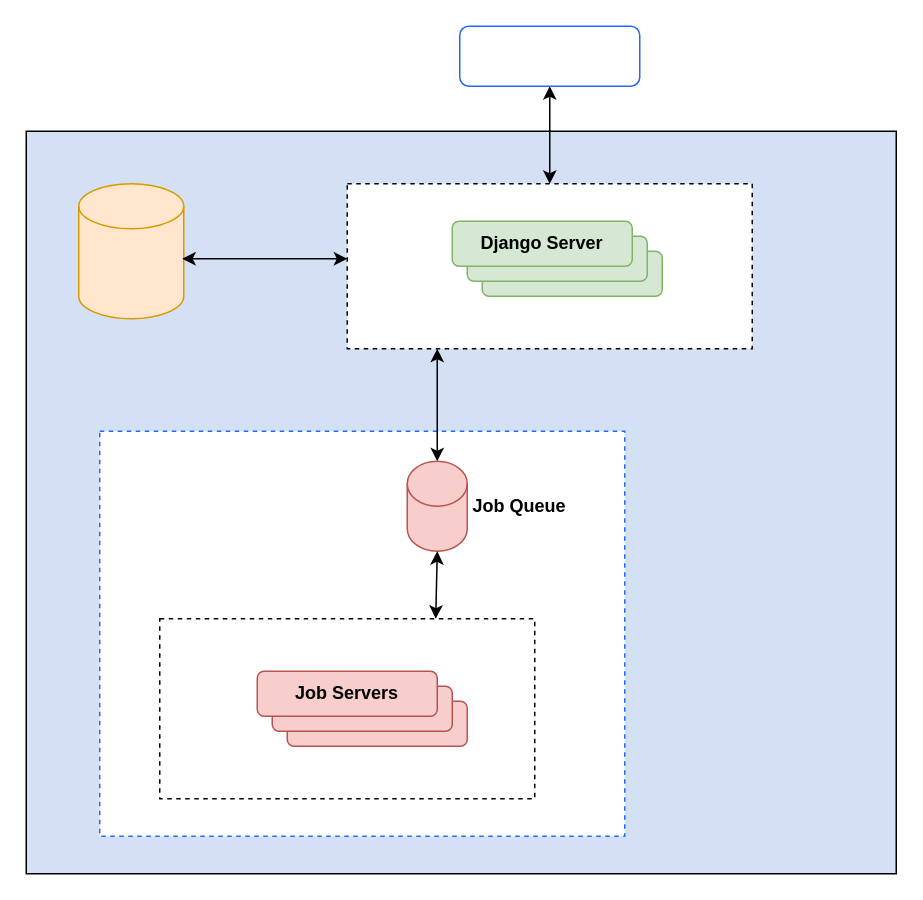
The diagram is 923 pixels wide and 900 high, and some of its shapes have lost their labels. The centre of each missing label's shape, as x and y in pixels:
PostGRES Database: the point at 130,250
User Browser/Client: the point at 549,55
